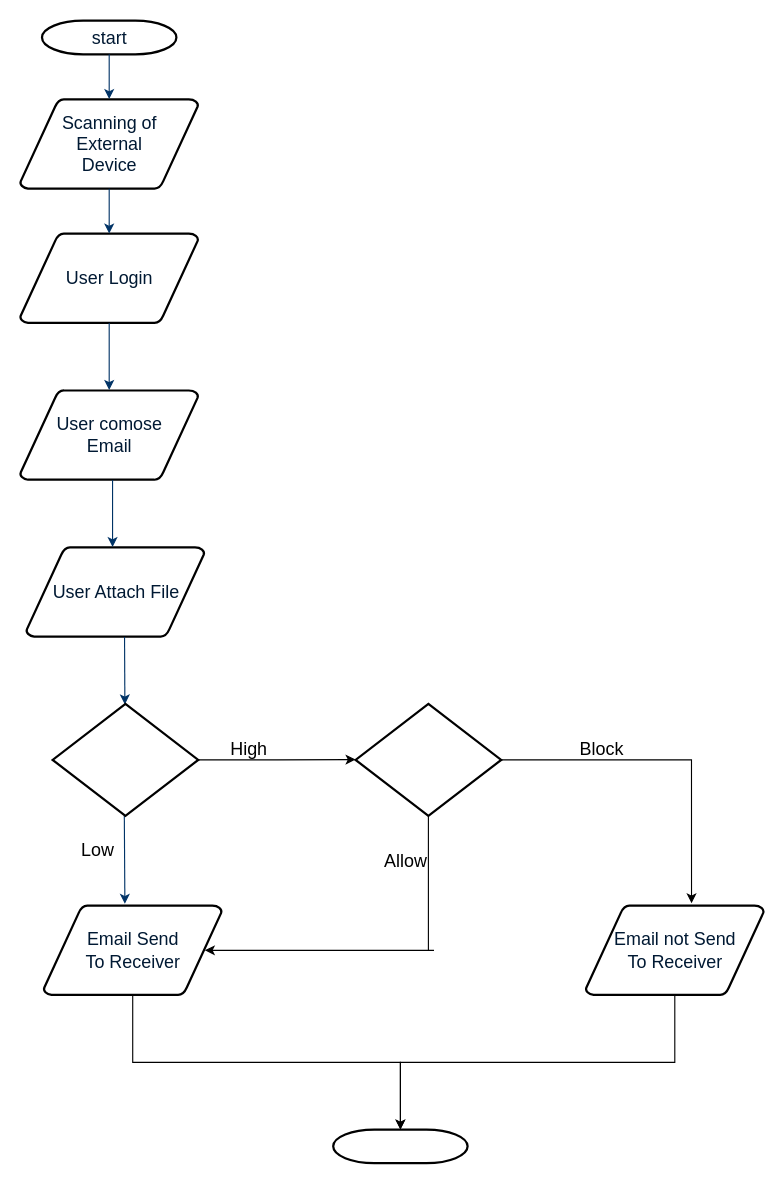
Some shapes in this 784 by 1183 pixel diagram are drawn without their labels. Here are the shapes that lost their labels. From the top down, the box of each, then its label:
(51, 702, 199, 816): Severity Checking
(354, 702, 502, 816): Third Party Validation
(332, 1128, 468, 1164): End
